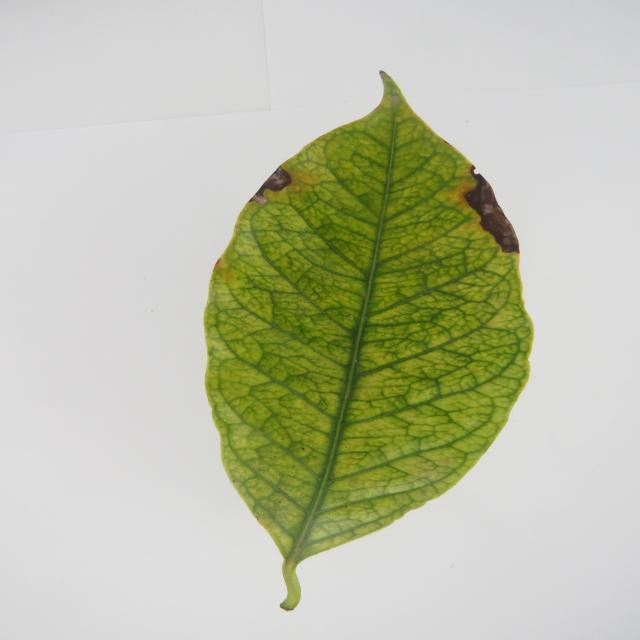DeficienciaNutricional-Hierro: (205, 72, 532, 610)
